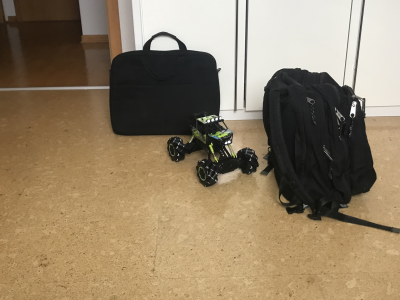remote control car: (164, 109, 261, 189)
